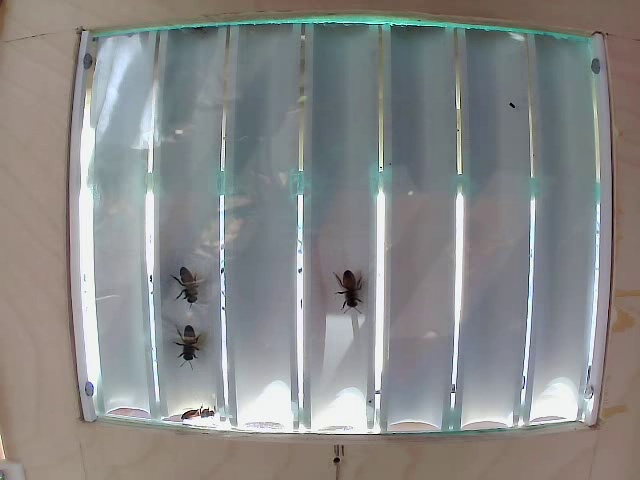bee: (322, 266, 378, 314), (161, 253, 206, 289), (168, 331, 204, 371)
